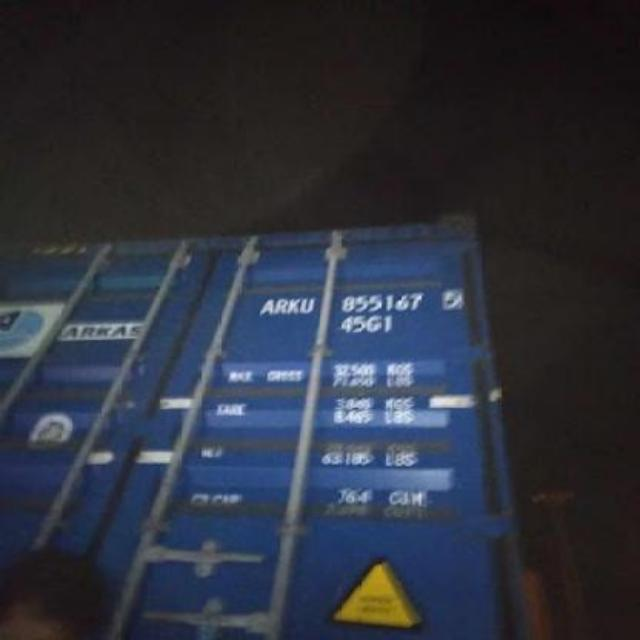1: (386, 292, 396, 314)
5: (368, 292, 384, 316), (446, 290, 462, 312), (358, 295, 368, 311)
6: (396, 290, 409, 314)
7: (410, 290, 426, 314)
8: (340, 296, 356, 312)
A: (262, 296, 274, 318)
K: (288, 298, 302, 314)
R: (274, 299, 290, 315)
U: (302, 297, 316, 313)
